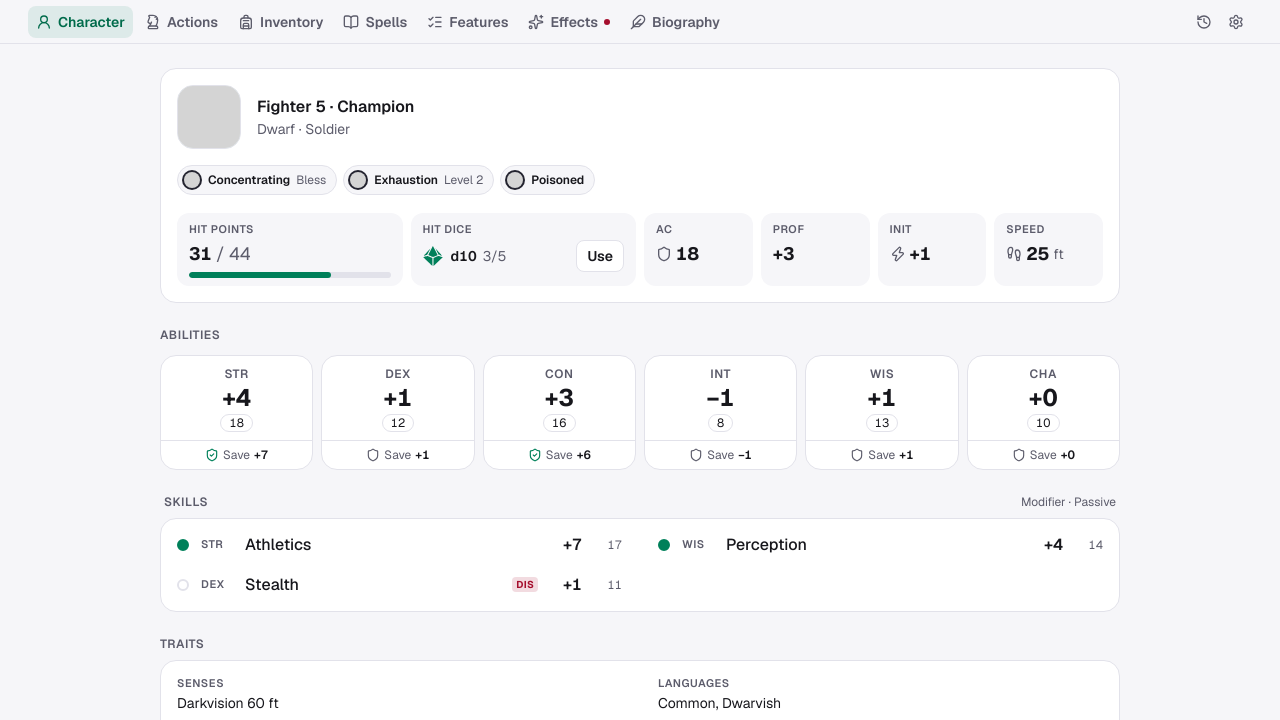
Test: components/character-sheet/item-menu, Remove…, from module 0.33.0 › waits while a give of something inside it is on its way
Click the tab "Inventory".
click(281, 22)  # box [230, 6, 331, 38]
(page scrolled)
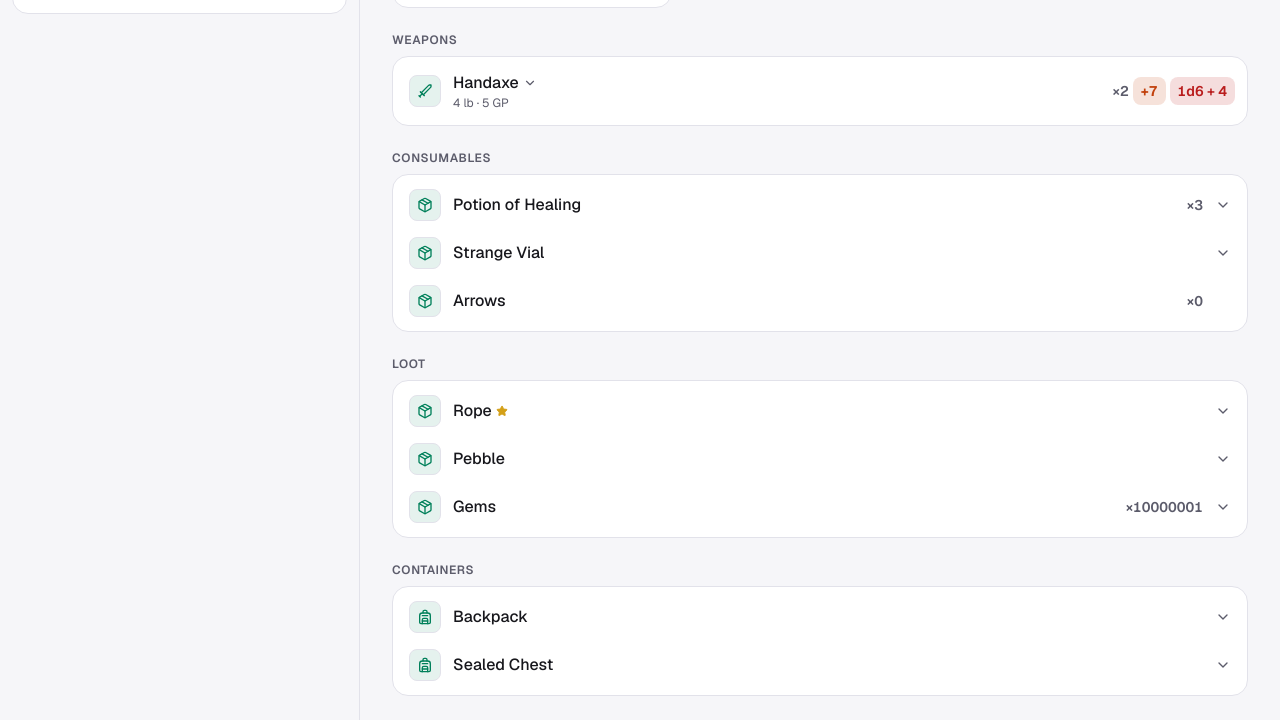
Click the heading "Backpack".
click(425, 617)  # box [399, 593, 1241, 641]
(page scrolled)
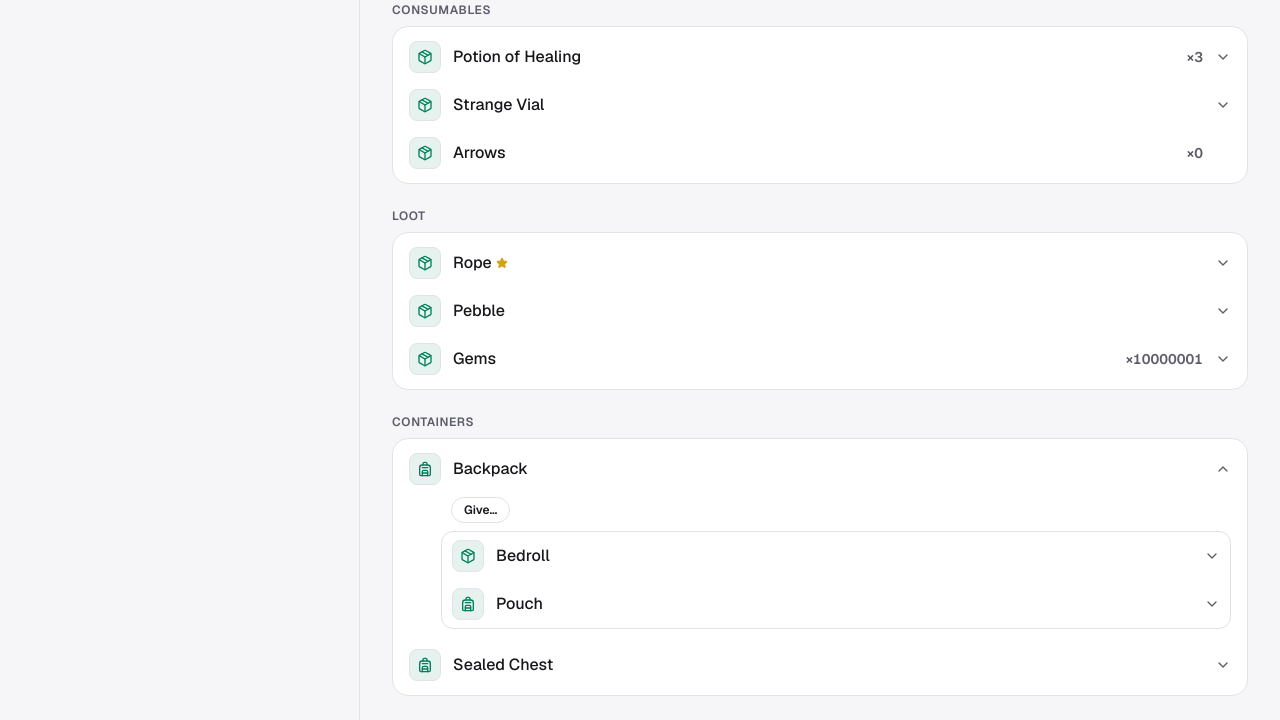
Result: the text "Bedroll" is shown at [496, 544, 550, 568]
Right-click the heading "Bedroll".
right_click(468, 556)  # box [442, 532, 1230, 580]
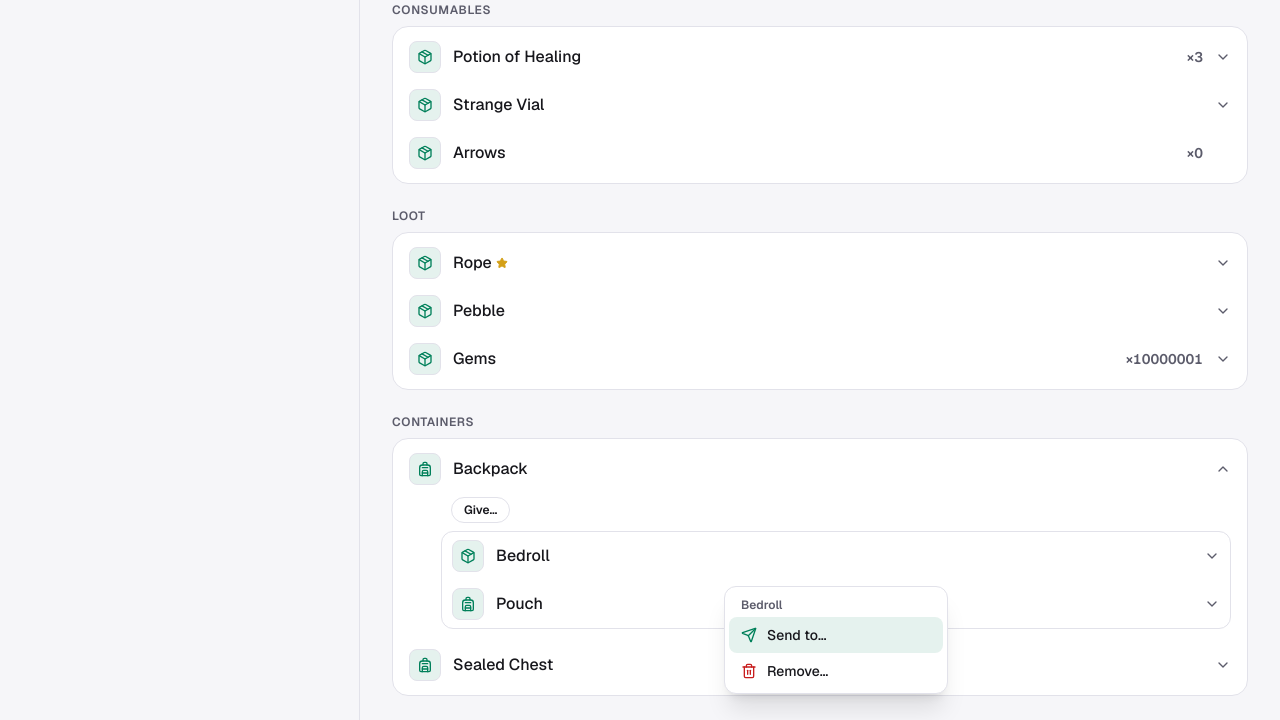
Click the menu item "Send to…".
click(836, 635)  # box [729, 617, 943, 653]
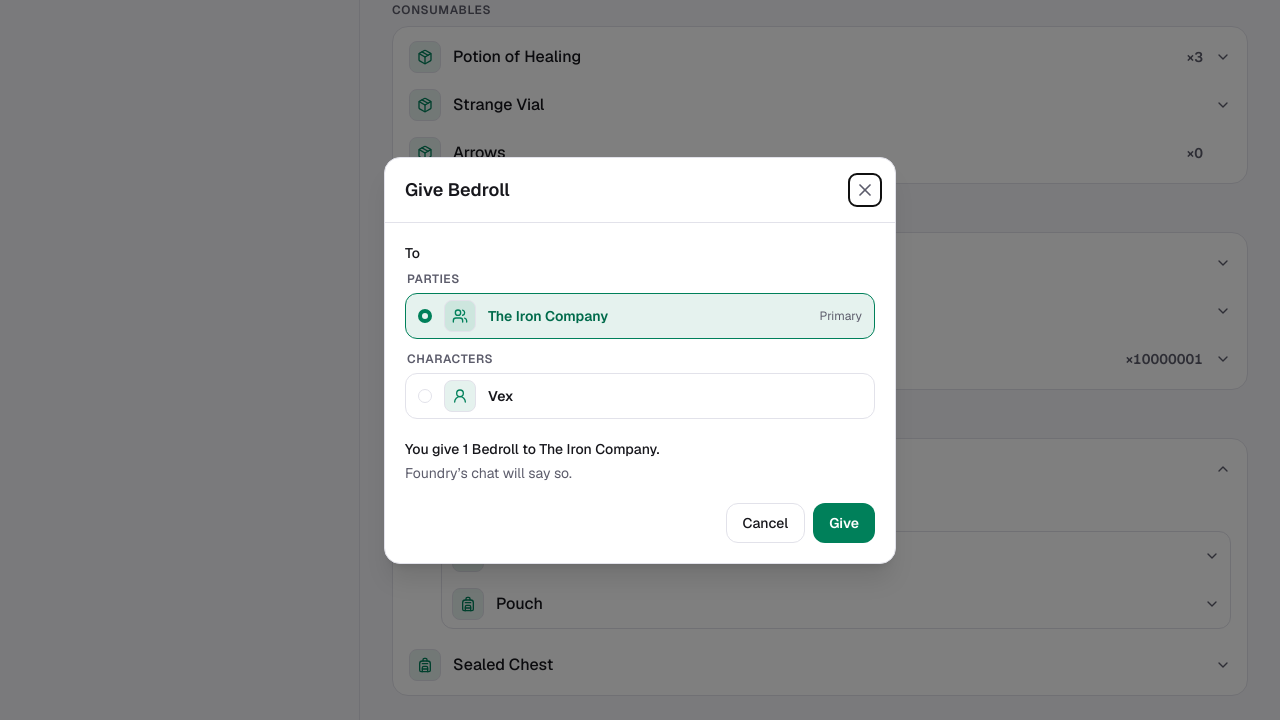
Click the button "Give".
click(844, 522)  # box [813, 502, 875, 542]
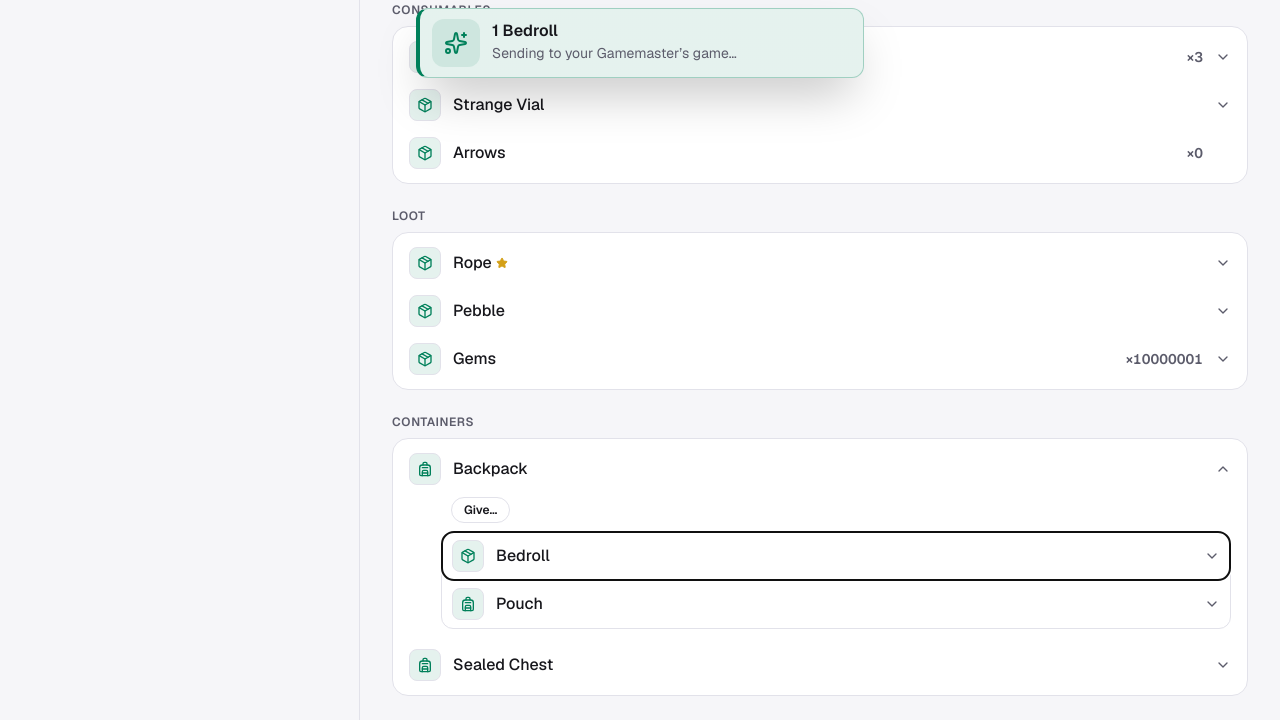
Right-click the heading "Backpack".
right_click(425, 469)  # box [399, 445, 1241, 493]
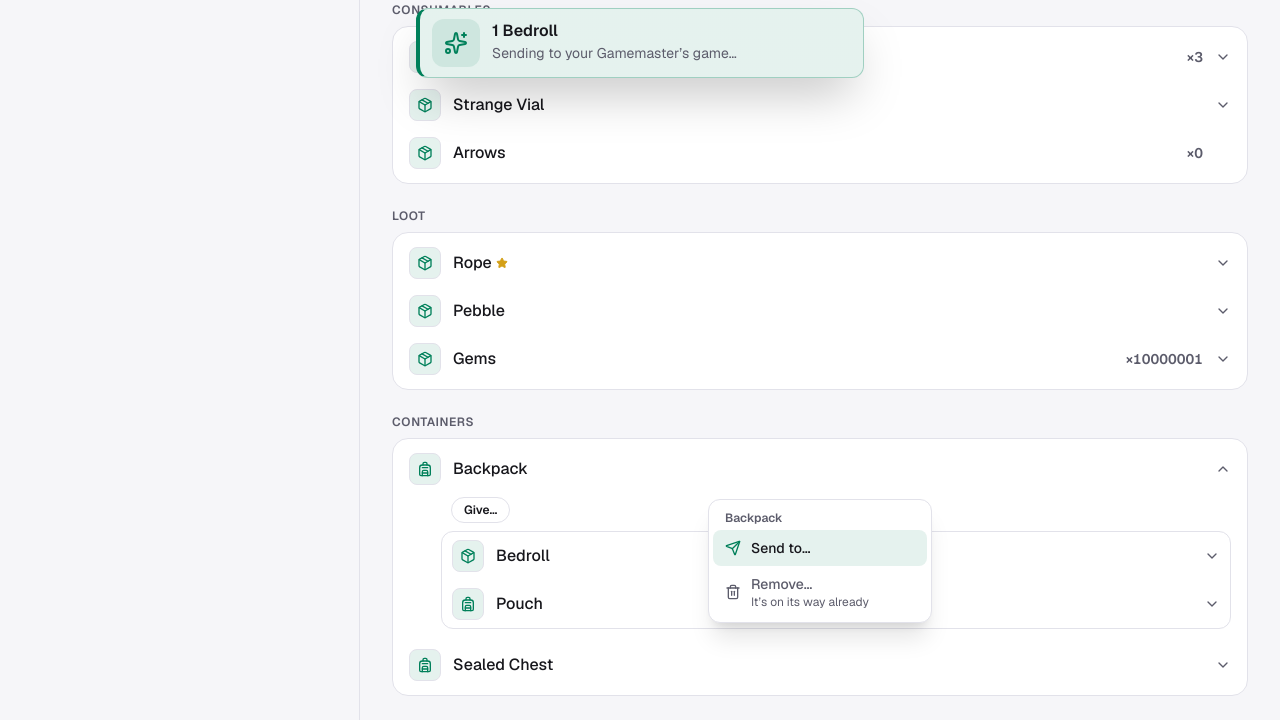
Result: the menu item "Remove… It’s on its way already" is disabled at [713, 566, 927, 618]
